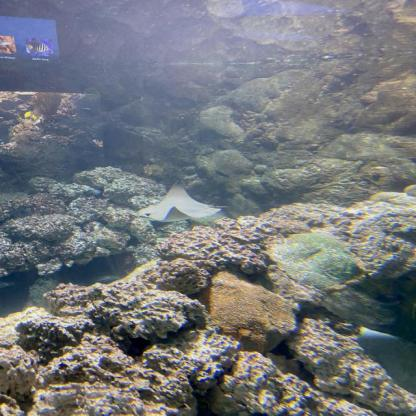stingray: (136, 180, 223, 220)
